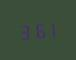one: (45, 19, 57, 38)
six: (32, 20, 44, 39)
three: (18, 21, 30, 40)
